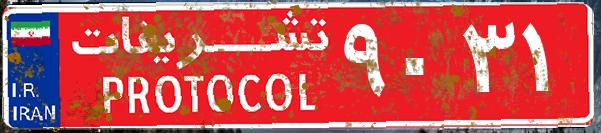0: (400, 20, 460, 115)
1: (520, 20, 580, 115)
3: (460, 20, 520, 115)
9: (340, 20, 400, 115)
تشریفات: (60, 8, 340, 125)
